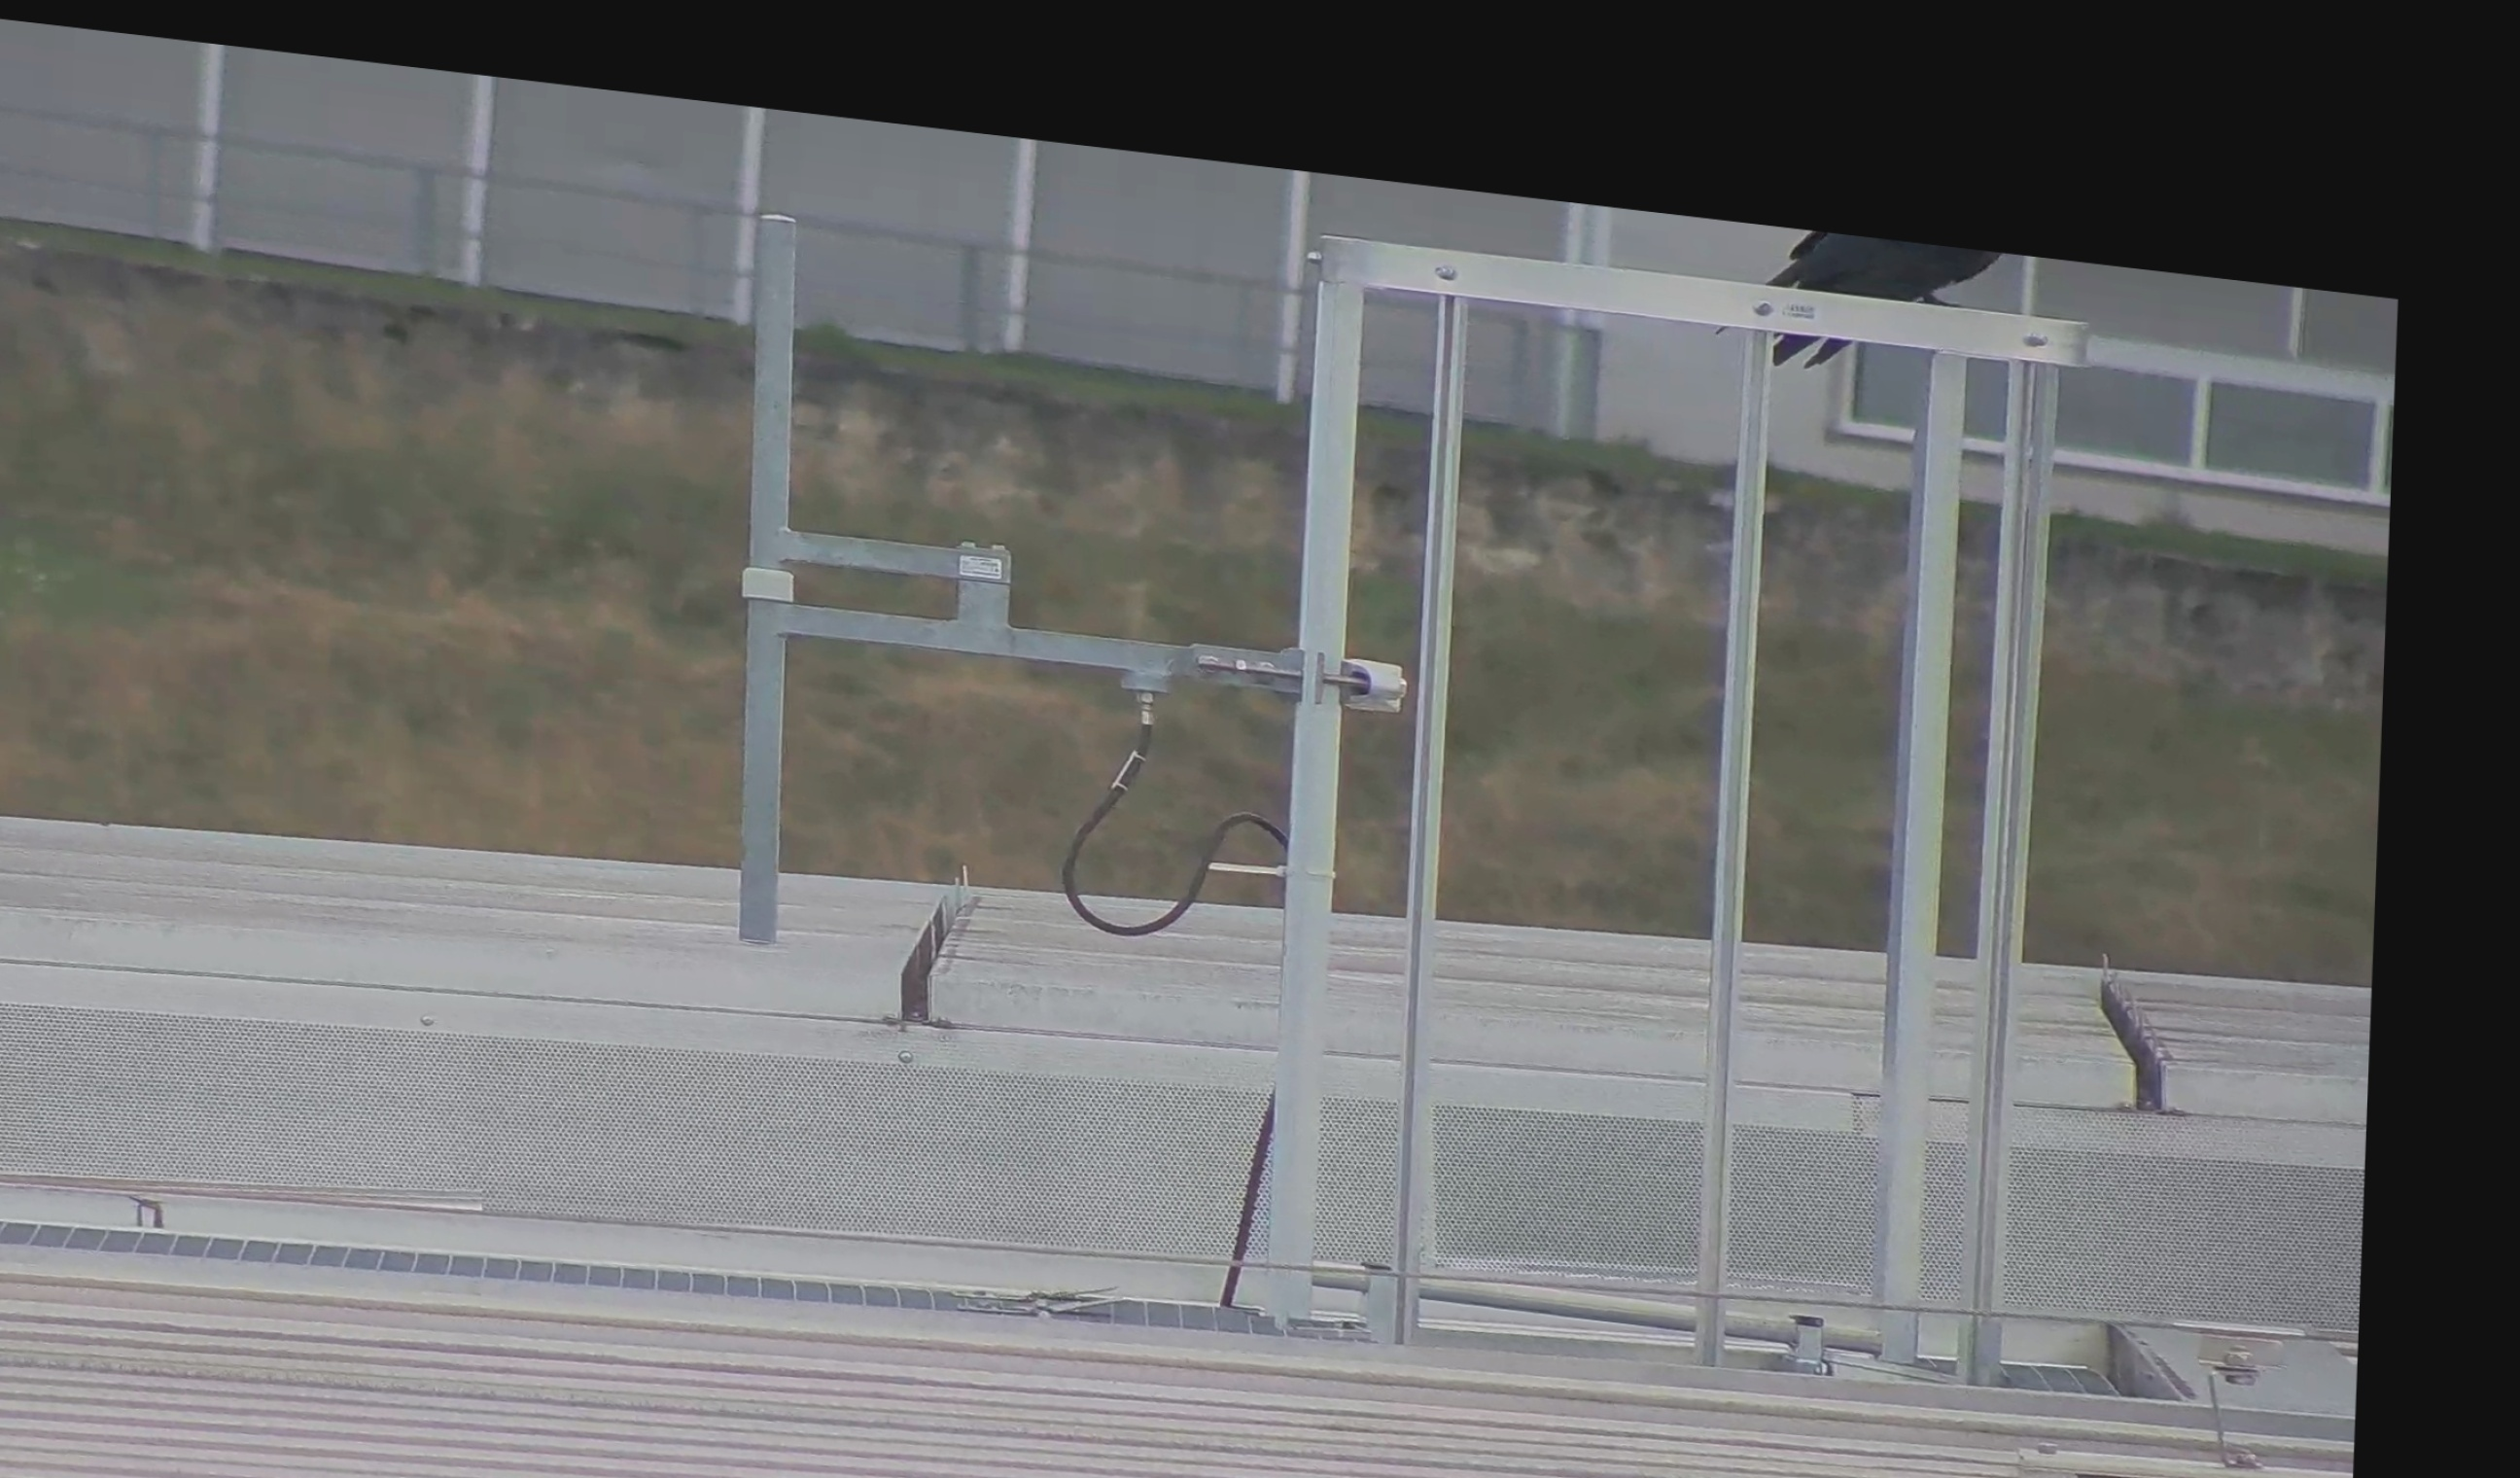Other: (2075, 941, 2210, 1137)
